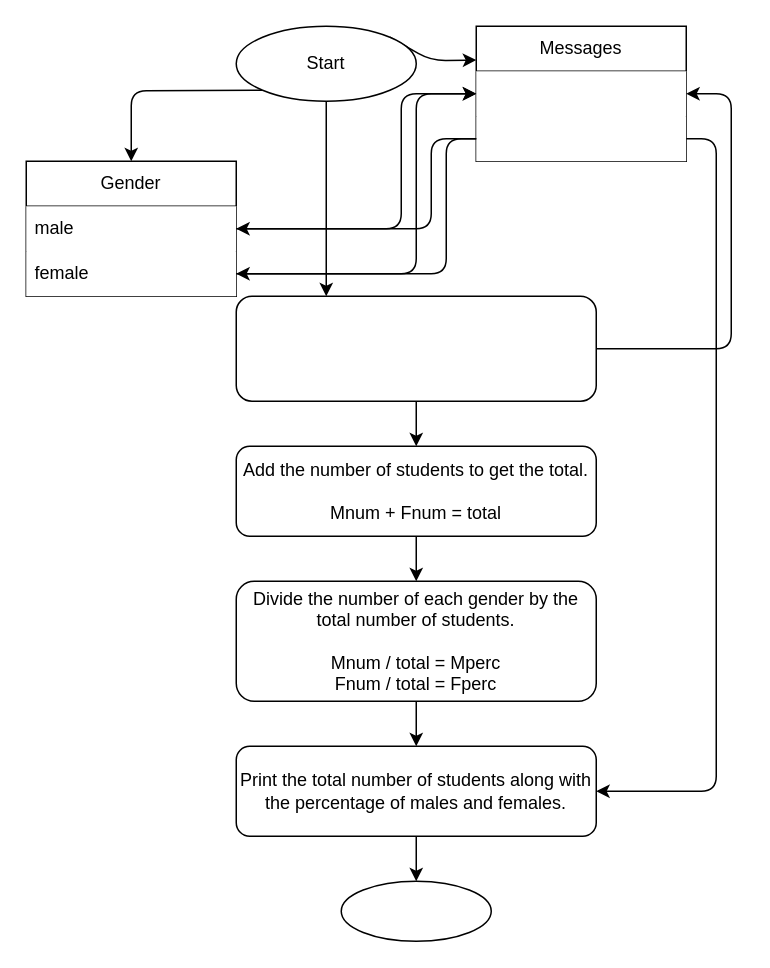
Some shapes in this 770 by 968 pixel diagram are drawn without their labels. Each missing label, with the centre of its shape:
"Ask for the number of male and female students. Mnum, Fnum" goes at (x=415, y=348).
"End" goes at (x=415, y=910).
"message_1" goes at (x=581, y=93).
"message_2" goes at (x=581, y=138).
